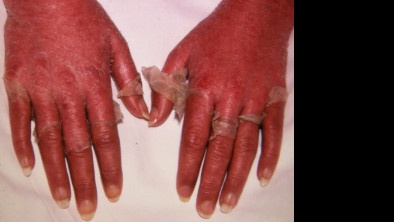SJS-TEN: (135, 60, 292, 149), (0, 61, 146, 154)
